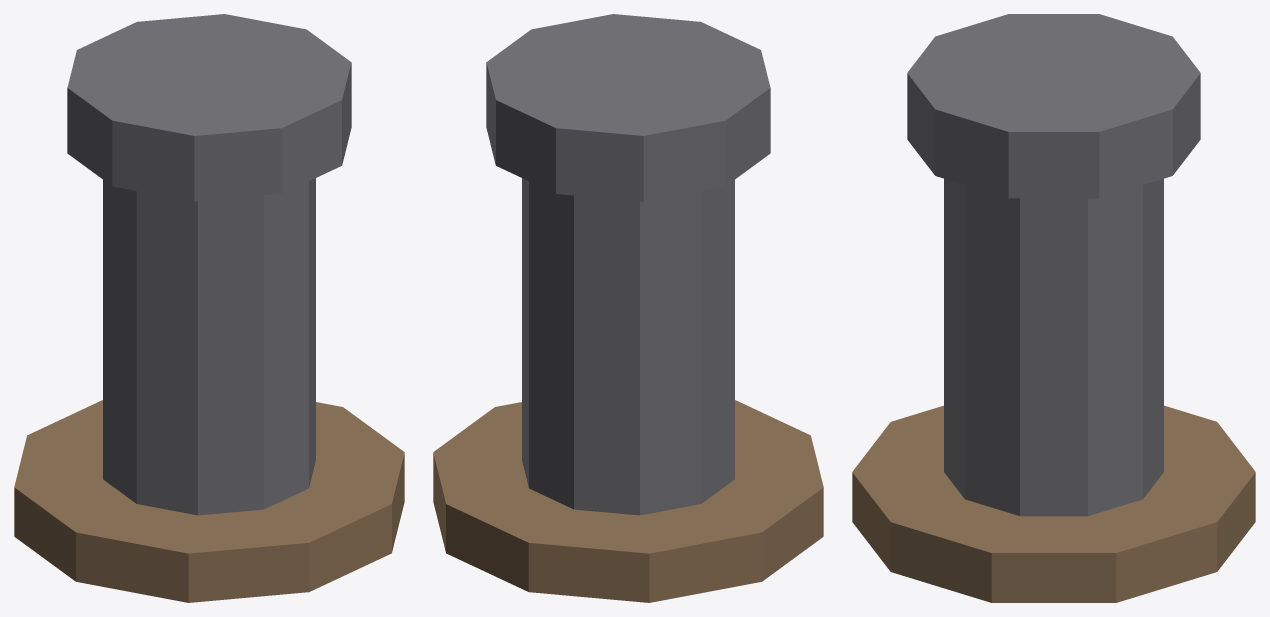
Rendered from prop-mooring-bollard.fbx.
3 views of the same model, side by side, from view 1: azimuth 30°, elevation 25°; view 2: azimuth 150°, elevation 25°; view 3: azimuth 270°, elevation 25° (orthographic).
Parts seen in each view (by area): view 1: prop-mooring-bollard; view 2: prop-mooring-bollard; view 3: prop-mooring-bollard.
Boxes of the visible parts, x1,y1,x2,y2 form: prop-mooring-bollard: (14, 14, 404, 602); prop-mooring-bollard: (433, 14, 823, 602); prop-mooring-bollard: (852, 14, 1255, 602).
Size of the model in its own units: 41.85 by 54 by 44.
